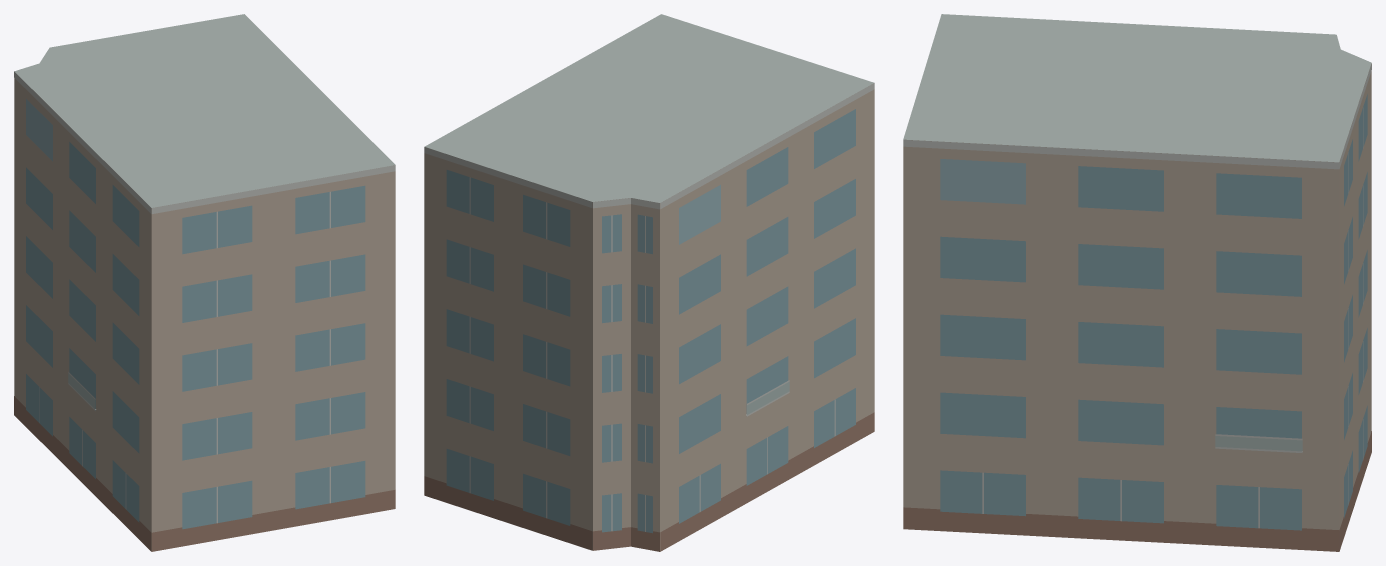
Rendered from survey-upis-32731860.glb.
The picture shows the model from 3 angles, left to right: view 1: azimuth 30°, elevation 25°; view 2: azimuth 150°, elevation 25°; view 3: azimuth 270°, elevation 25°; orthographic projection. The views are drawn at different scales.
Visible parts, largest first — view 1: survey-upis-32731860.tmp; view 2: survey-upis-32731860.tmp; view 3: survey-upis-32731860.tmp.
Part boxes in pixels (left/top/right/bottom): survey-upis-32731860.tmp: left=14, top=14, right=395, bottom=551; survey-upis-32731860.tmp: left=424, top=14, right=874, bottom=551; survey-upis-32731860.tmp: left=903, top=14, right=1371, bottom=551.
Bounding box in the file's own units: 11.04 × 13.5 × 14.73.
